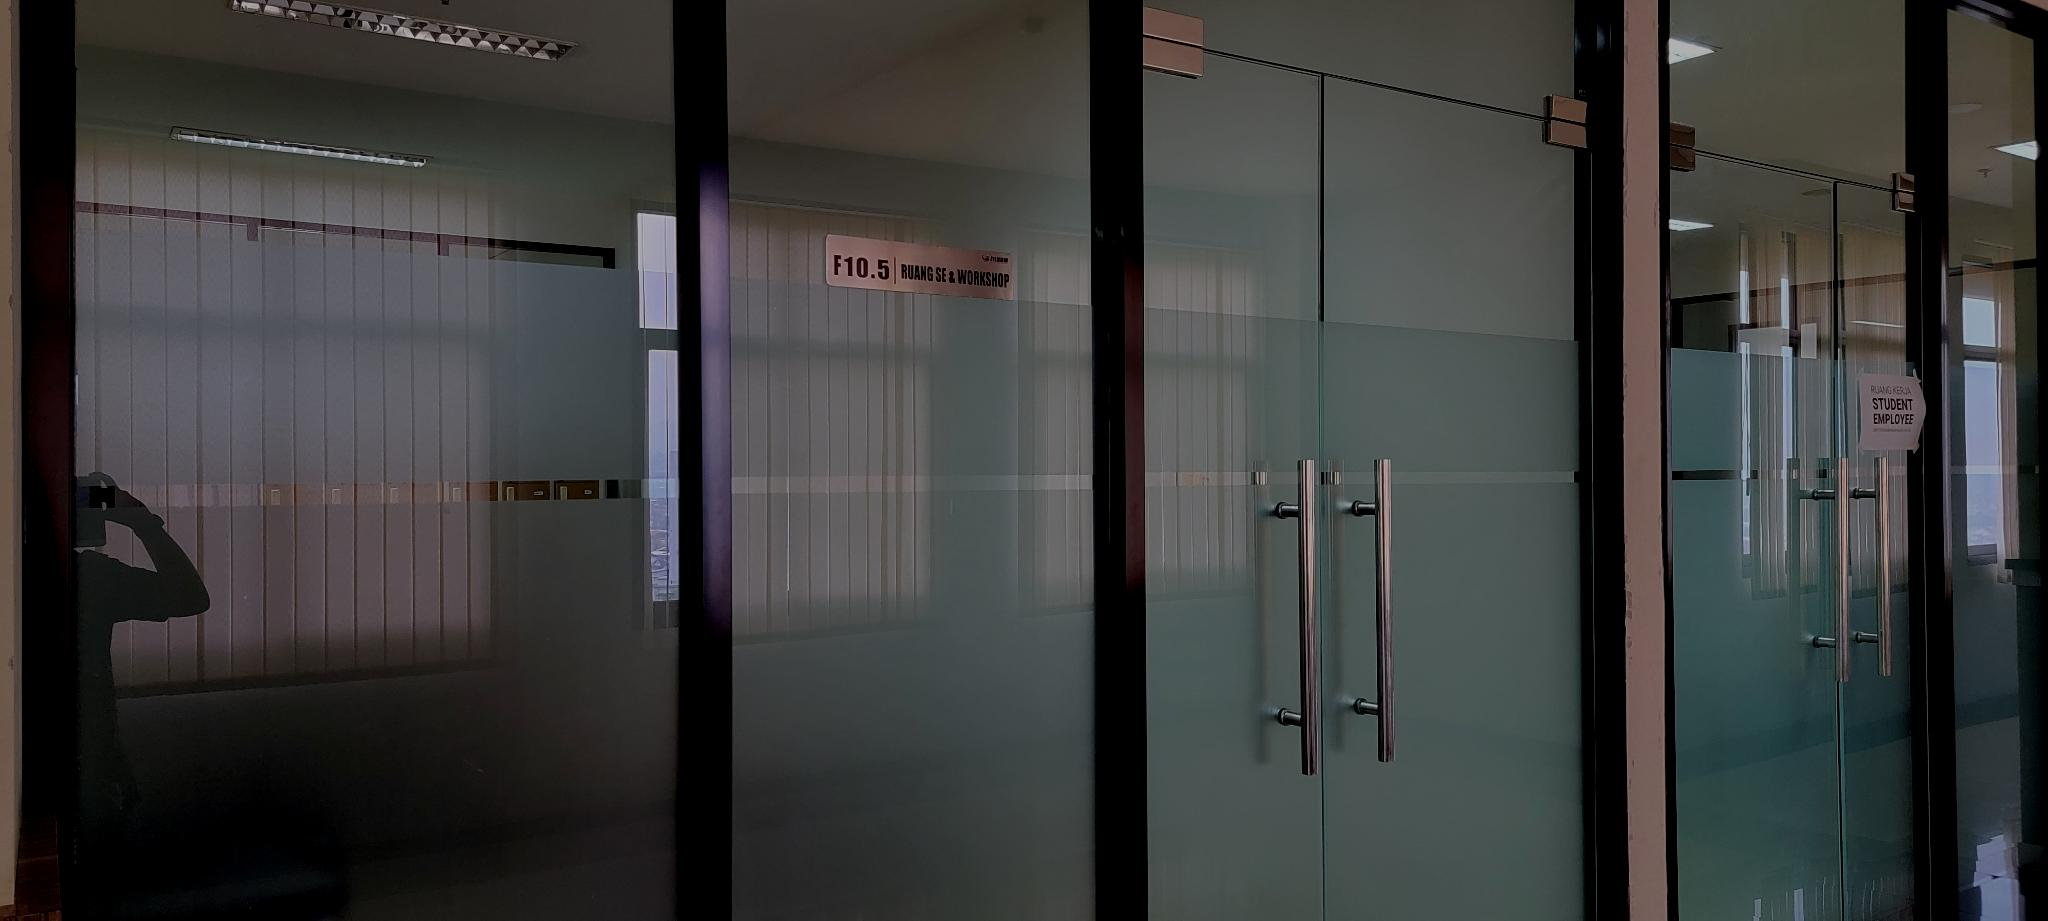plate: (824, 231, 1015, 304)
